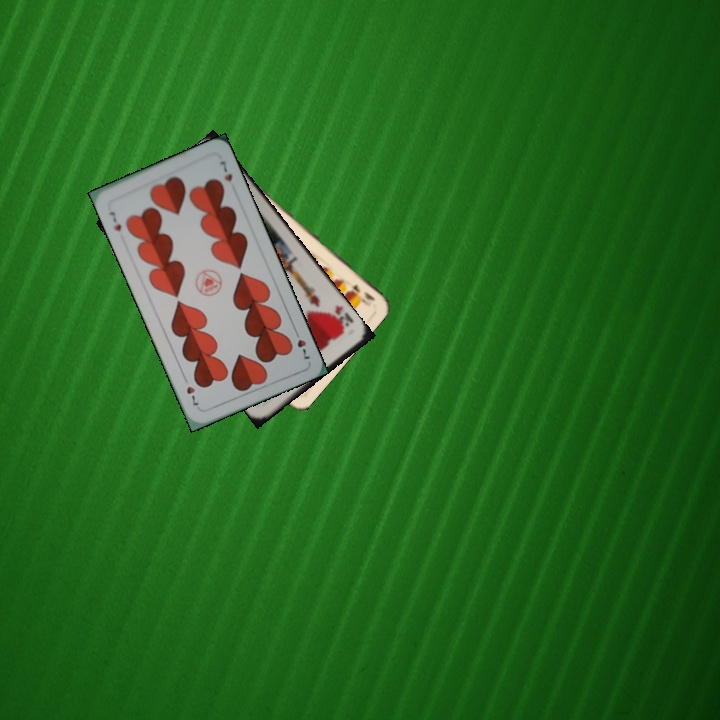E10: (347, 280, 378, 306)
H7: (290, 325, 313, 362), (105, 207, 124, 234)
HK: (325, 301, 356, 335)
